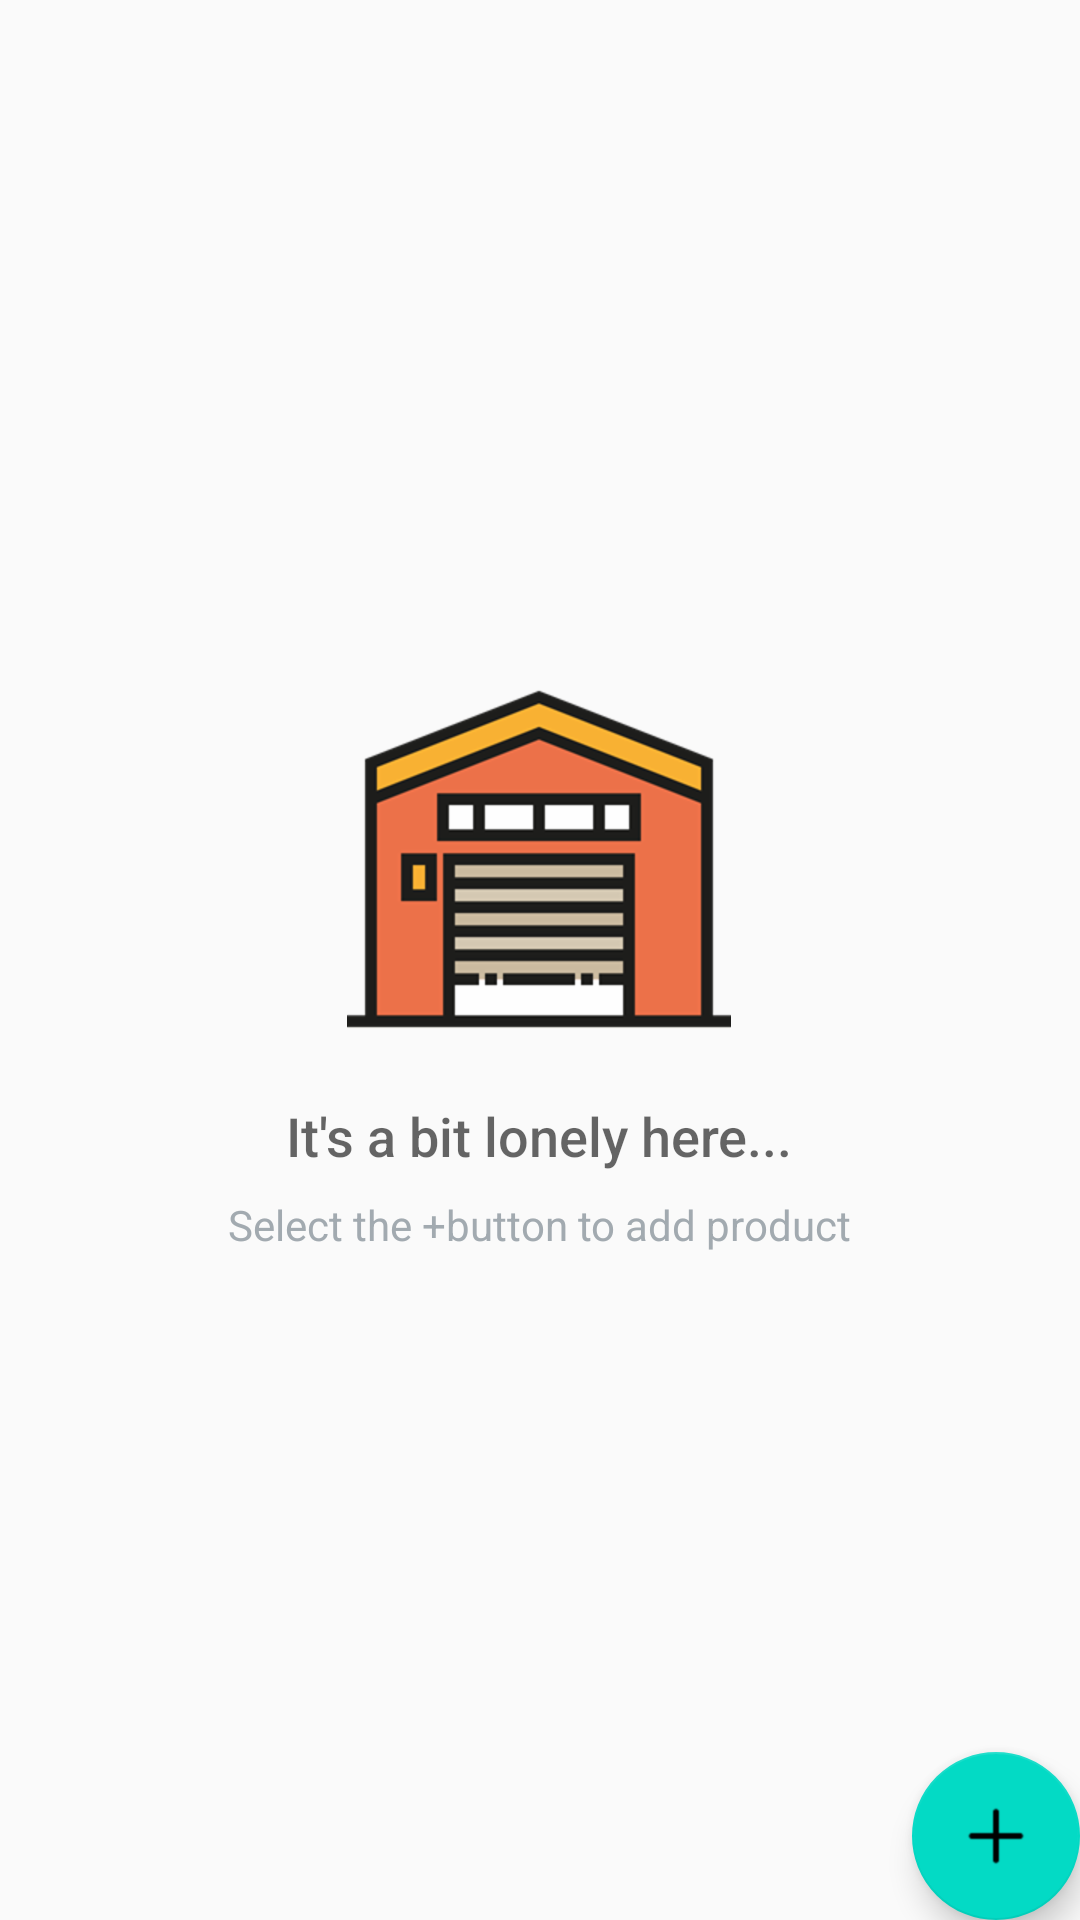

Icons on this 1080*1920 Android screen, each with the point to tap as (x,y):
plus: (996,1836)
